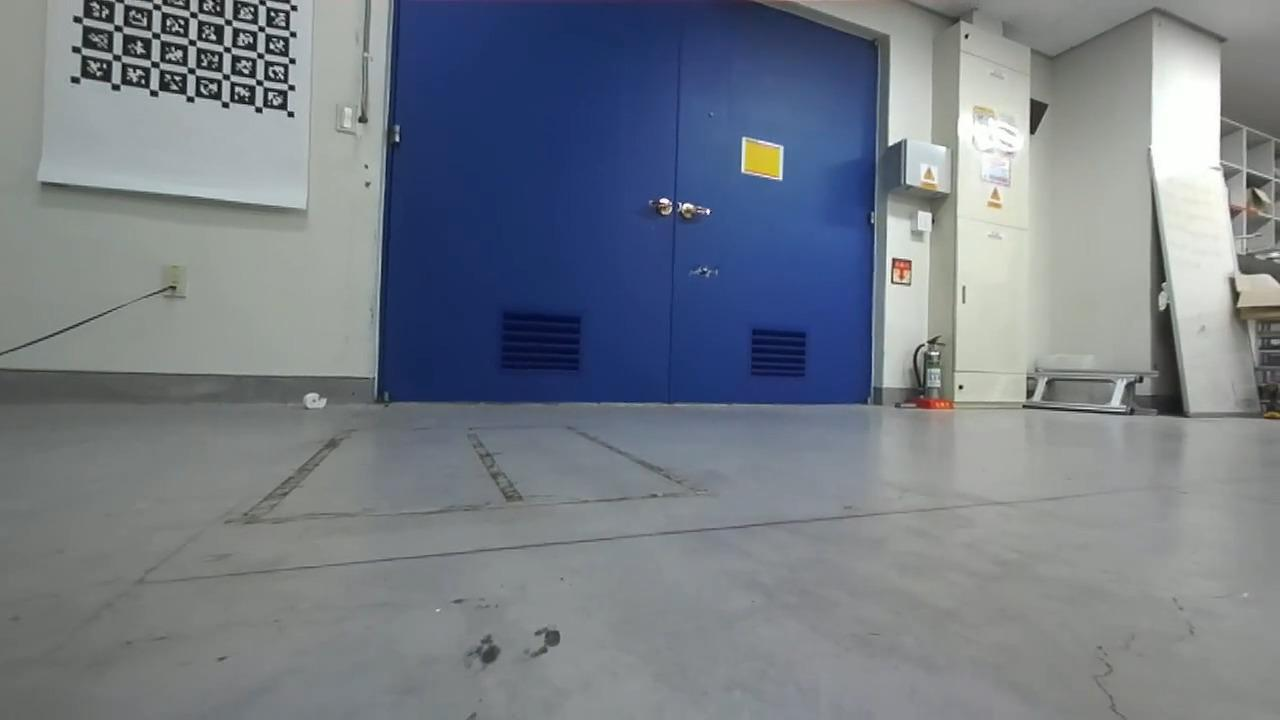crazyflie: (680, 256, 730, 284)
